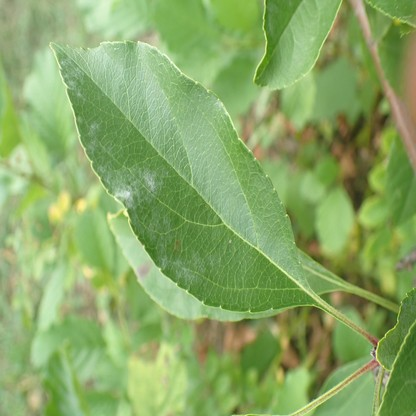powdery_mildew: (99, 161, 159, 208), (145, 211, 169, 269), (174, 249, 206, 284), (61, 57, 83, 87), (87, 122, 102, 155), (76, 115, 83, 123), (78, 92, 83, 99)
